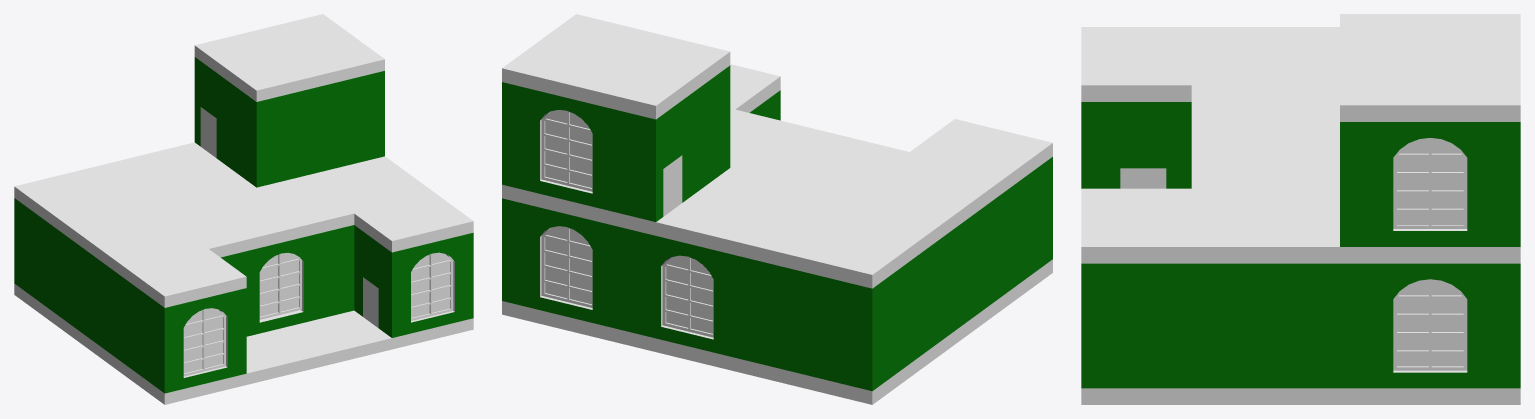
The model's file is first floor 3-30.fbx.
3 renders of one model, left to right at view 1: azimuth 30°, elevation 25°; view 2: azimuth 150°, elevation 25°; view 3: azimuth 270°, elevation 25°, orthographic. The views are drawn at different scales.
Visible parts, largest first — view 1: roof_2, outer walls_2, floor_2, window glass_2, window metal_2, interior door_2, window frame_2; view 2: outer walls_2, roof_2, floor_2, window glass_2, window metal_2, interior door_2, window frame_2; view 3: roof_2, outer walls_2, window glass_2, floor_2, window metal_2, interior door_2.
Part boxes in pixels (x1=…): roof_2: x1=14, y1=14, x2=473, y2=307; outer walls_2: x1=14, y1=57, x2=473, y2=393; floor_2: x1=14, y1=283, x2=473, y2=404; window glass_2: x1=184, y1=253, x2=450, y2=373; window metal_2: x1=183, y1=252, x2=453, y2=376; interior door_2: x1=200, y1=107, x2=378, y2=327; window frame_2: x1=183, y1=255, x2=454, y2=377; outer walls_2: x1=502, y1=65, x2=1052, y2=391; roof_2: x1=502, y1=14, x2=1052, y2=288; floor_2: x1=502, y1=259, x2=1052, y2=404; window glass_2: x1=545, y1=112, x2=712, y2=333; window metal_2: x1=541, y1=110, x2=713, y2=337; interior door_2: x1=663, y1=155, x2=682, y2=216; window frame_2: x1=540, y1=113, x2=713, y2=339; roof_2: x1=1081, y1=14, x2=1520, y2=263; outer walls_2: x1=1081, y1=102, x2=1520, y2=388; window glass_2: x1=1397, y1=139, x2=1463, y2=366; floor_2: x1=1081, y1=388, x2=1520, y2=404; window metal_2: x1=1393, y1=138, x2=1467, y2=370; interior door_2: x1=1120, y1=168, x2=1166, y2=188.
Size of the model in its own units: 24.38 by 15.49 by 20.59.
